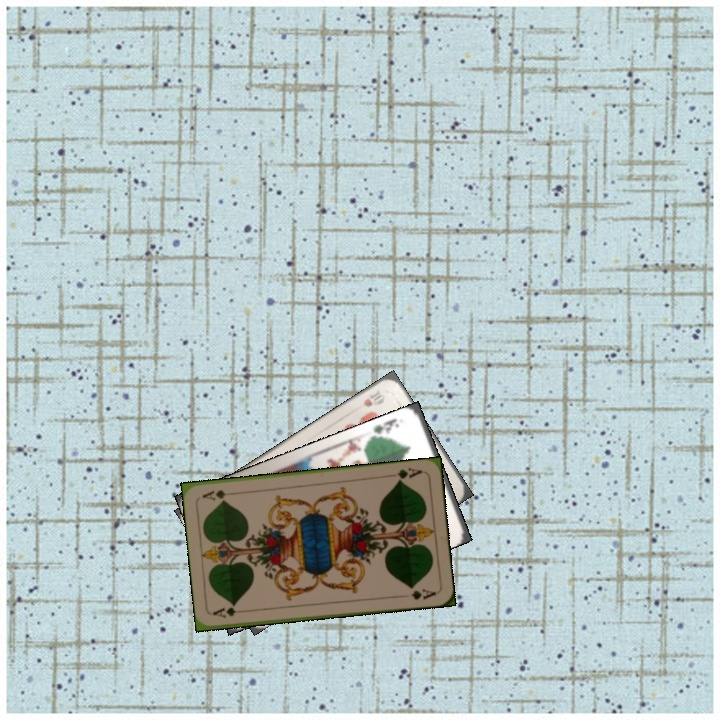GA: (385, 463, 424, 485), (209, 603, 250, 620)
GK: (369, 414, 402, 440)
H10: (359, 385, 388, 410)
